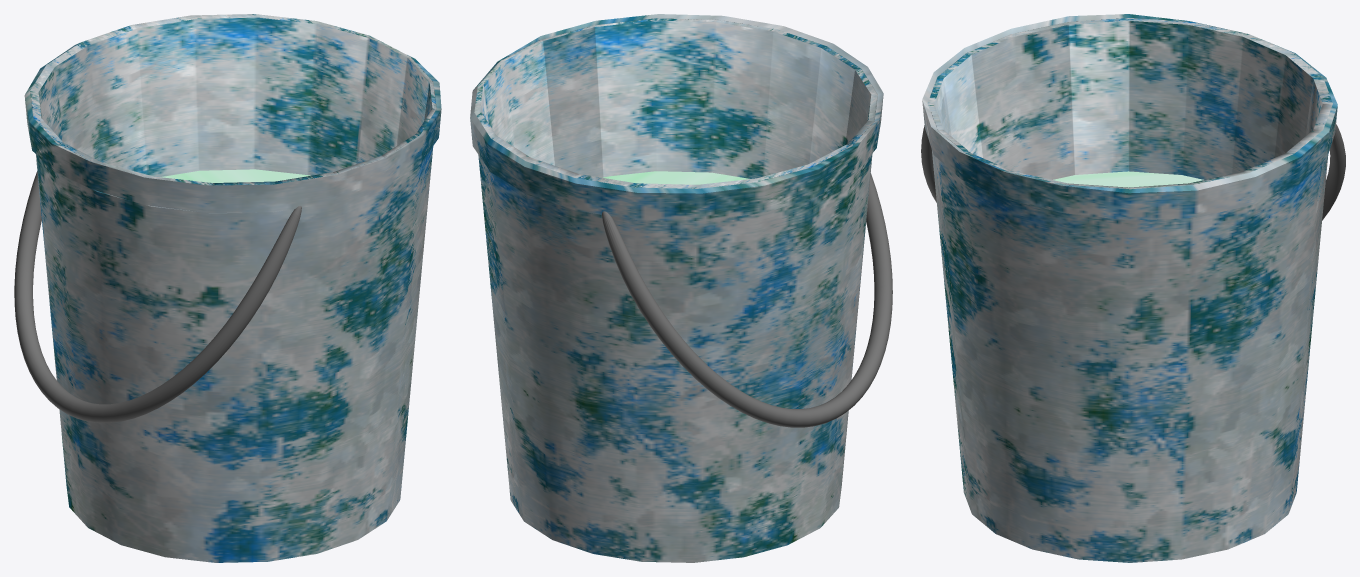
The model's file is Bucket.fbx.
3 renders of one model, left to right at view 1: azimuth 30°, elevation 25°; view 2: azimuth 150°, elevation 25°; view 3: azimuth 270°, elevation 25°, orthographic.
Parts seen in each view (by area): view 1: Body, handle, Paint; view 2: Body, handle, Paint; view 3: Body, handle, Paint.
Boxes of the visible parts, left/top/right/bottom form: Body: left=24, top=14, right=441, bottom=562; handle: left=14, top=171, right=301, bottom=422; Paint: left=160, top=169, right=310, bottom=182; Body: left=470, top=14, right=883, bottom=562; handle: left=602, top=173, right=892, bottom=427; Paint: left=603, top=171, right=749, bottom=184; Body: left=922, top=14, right=1337, bottom=562; handle: left=921, top=124, right=1345, bottom=220; Paint: left=1053, top=171, right=1203, bottom=187.
Size of the model in its own units: 34.3 by 35.73 by 35.07.
3 materials, 3 textured.
